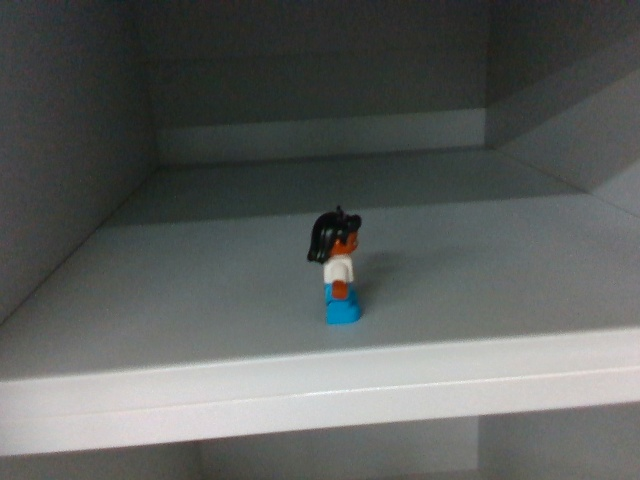people: (306, 209, 371, 336)
